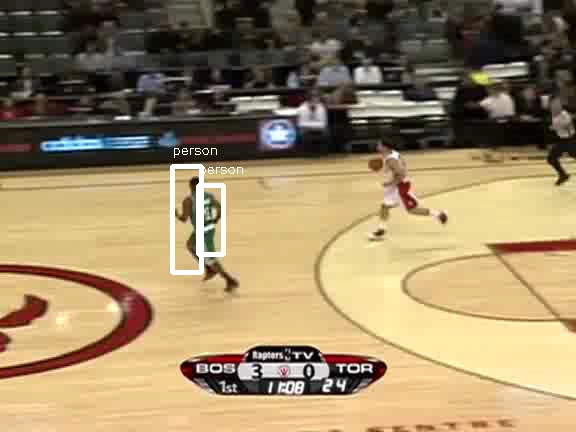person: (187, 186, 221, 267), (186, 186, 220, 267), (188, 186, 222, 267), (187, 185, 221, 266), (187, 187, 221, 268)
target_negative: (454, 148, 516, 431), (405, 329, 542, 426), (341, 27, 374, 331), (40, 205, 235, 252), (220, 57, 354, 89), (3, 54, 217, 56)
